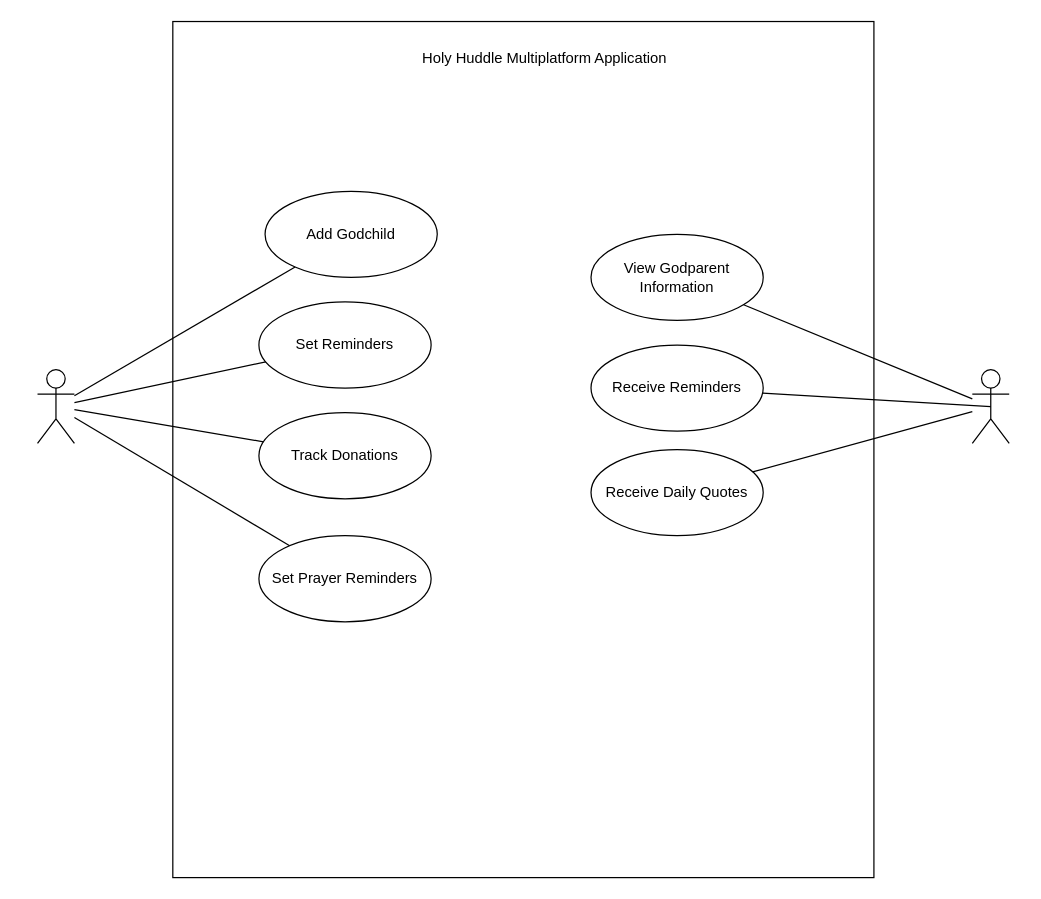
The diagram is 1041 pixels wide and 899 high, and some of its shapes have lost their labels. Here are the shapes that lost their labels. From the top down, the centre of each, then its label:
the point at 55,405: Godparent
the point at 990,405: Godchild
